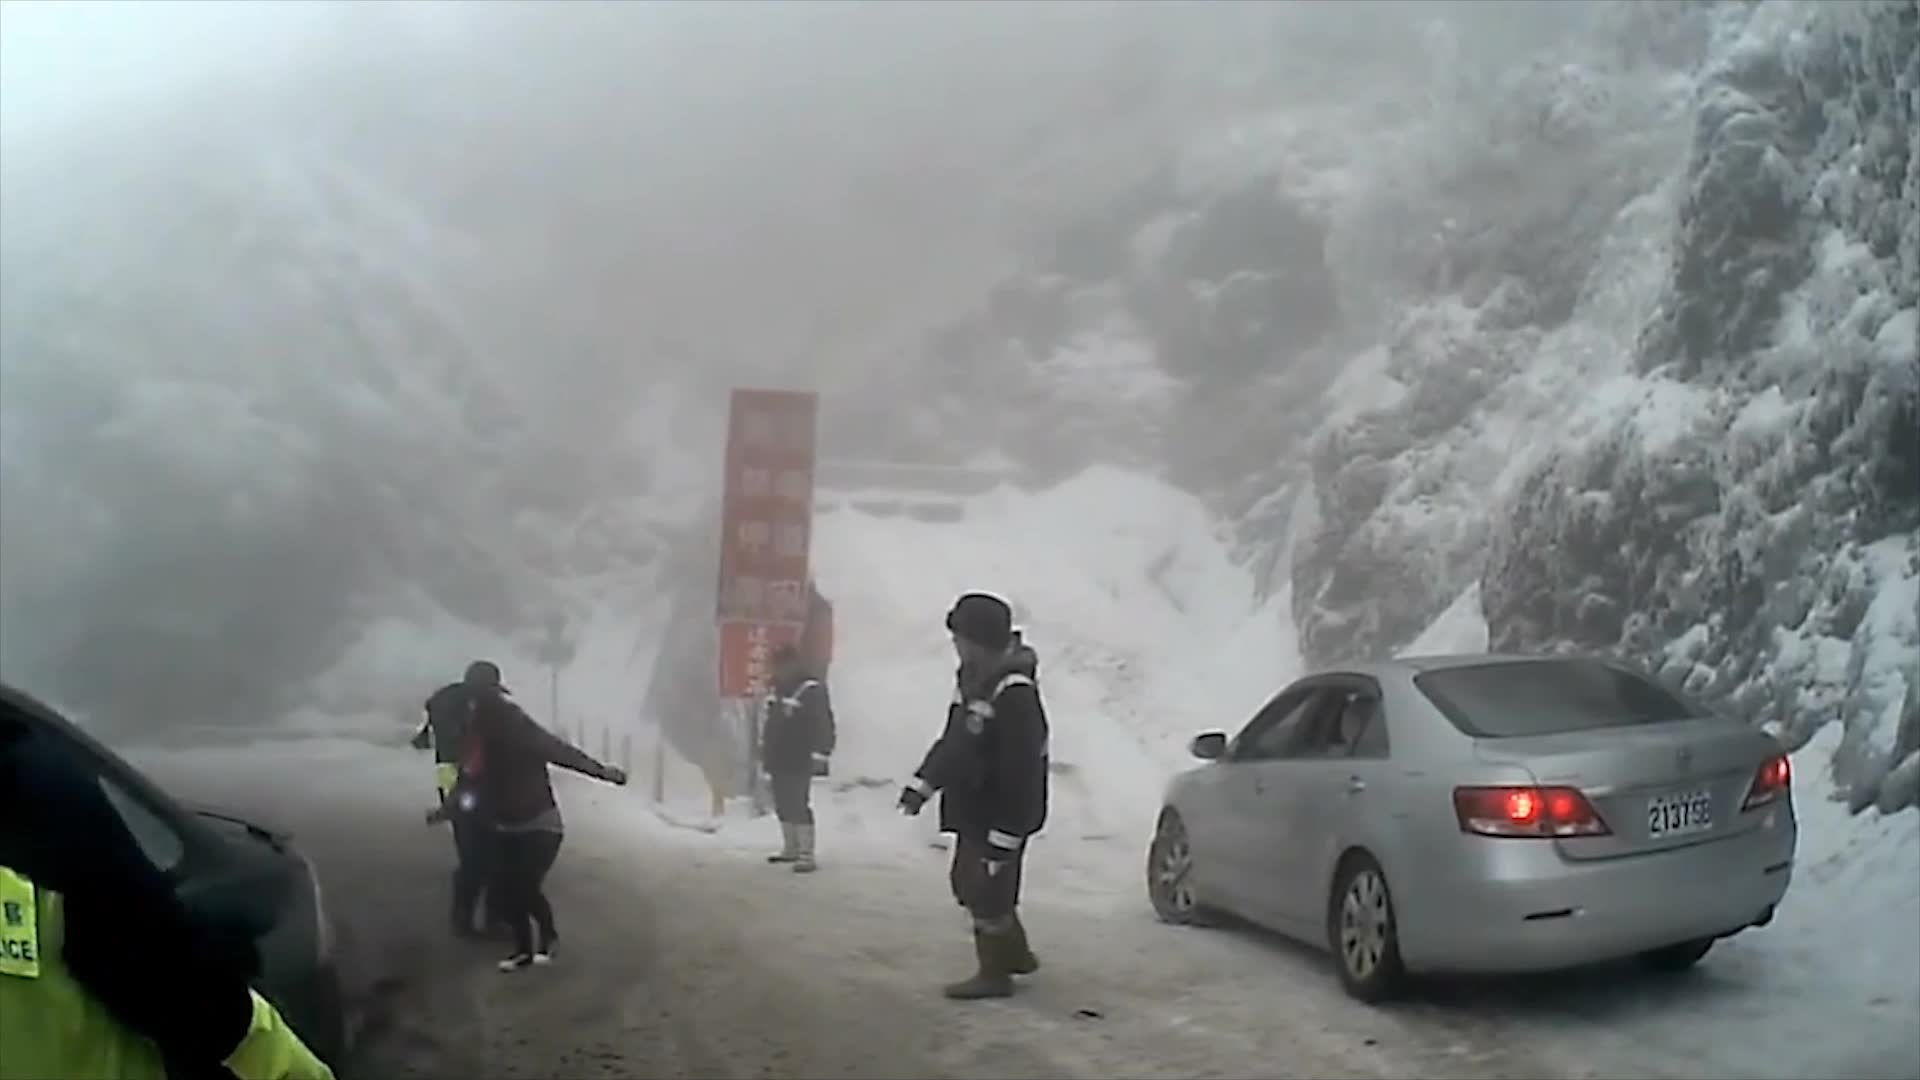pedestrian: (1, 644, 328, 1077), (896, 586, 1055, 1004), (424, 681, 627, 973), (761, 635, 837, 875), (777, 565, 838, 744)
vehicle: (1141, 650, 1797, 1003), (0, 683, 349, 1079)
